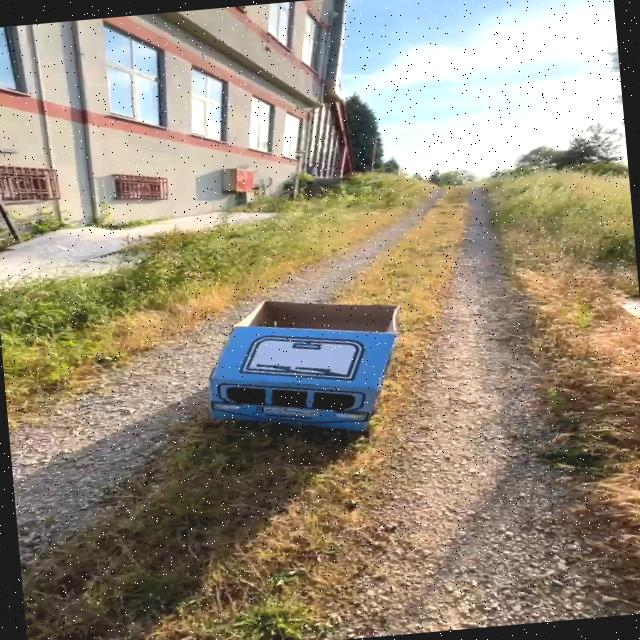blue_car: (150, 264, 480, 477)
